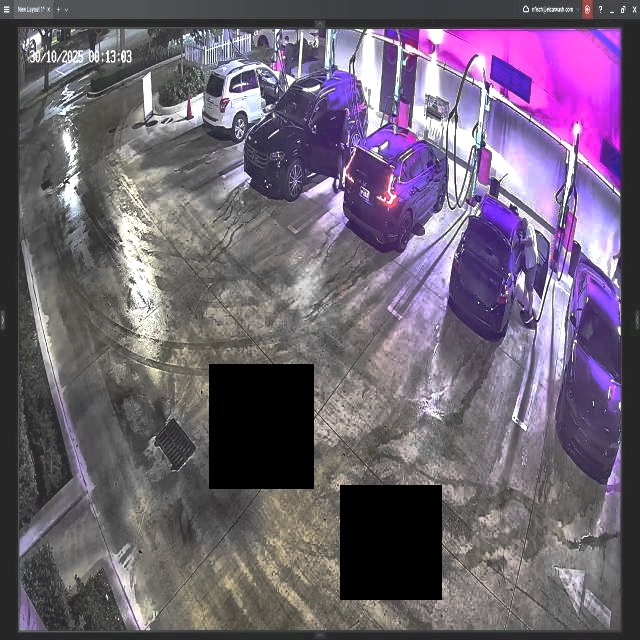Car: (448, 189, 548, 343), (248, 71, 367, 194), (343, 121, 449, 248)
